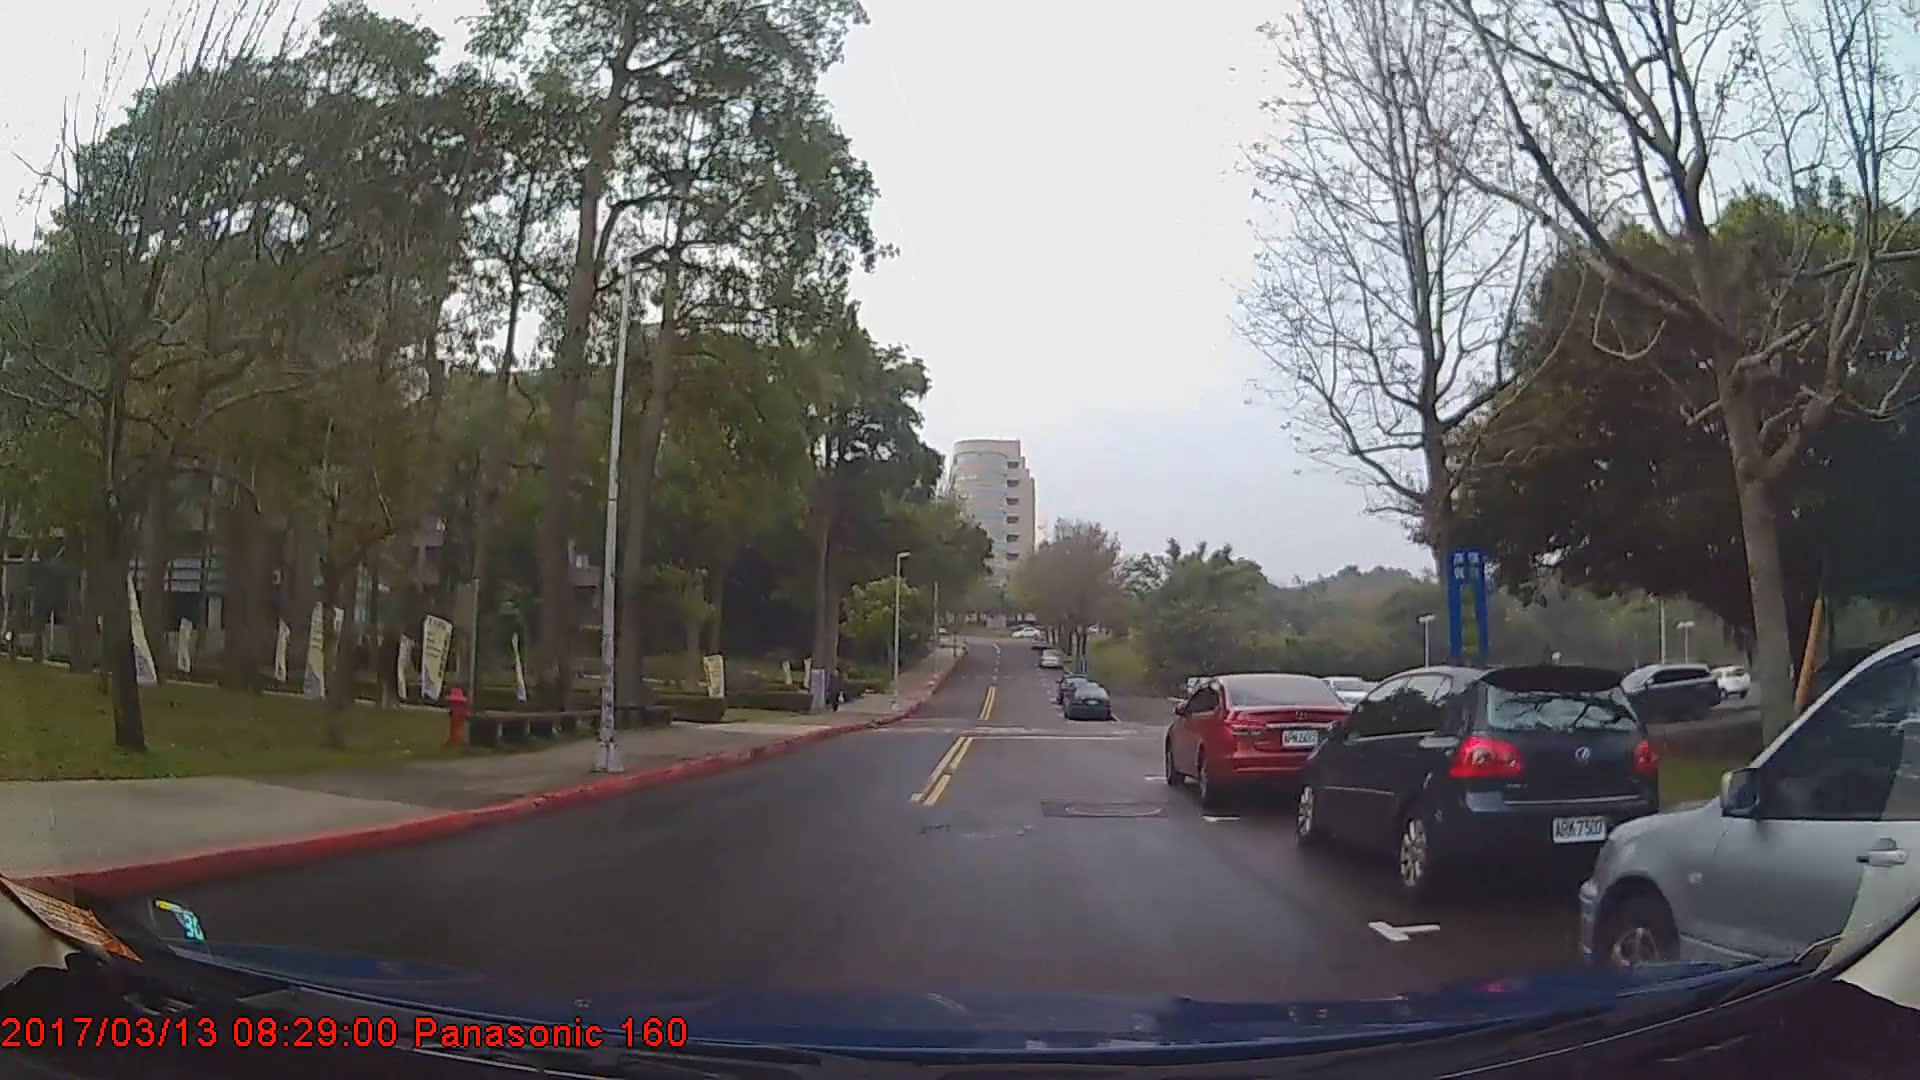vehicle: (1577, 632, 1917, 1005), (1291, 663, 1644, 894), (1163, 675, 1353, 806), (1590, 661, 1721, 721), (1063, 680, 1112, 721)
